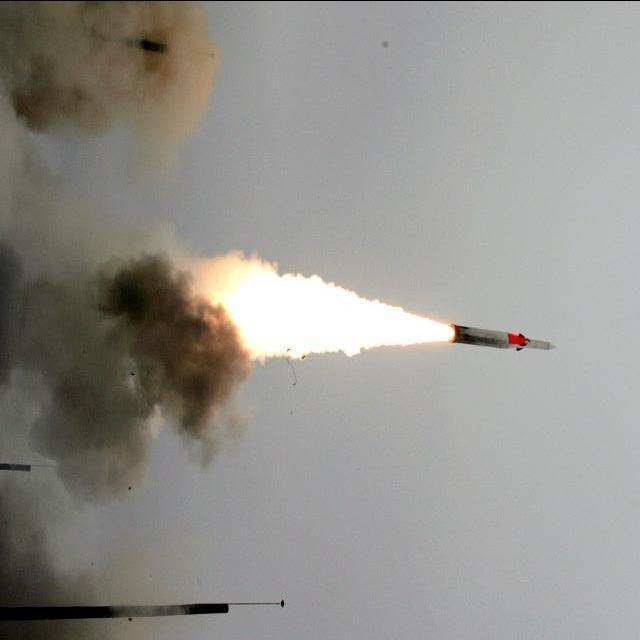missile: (440, 319, 564, 361)
